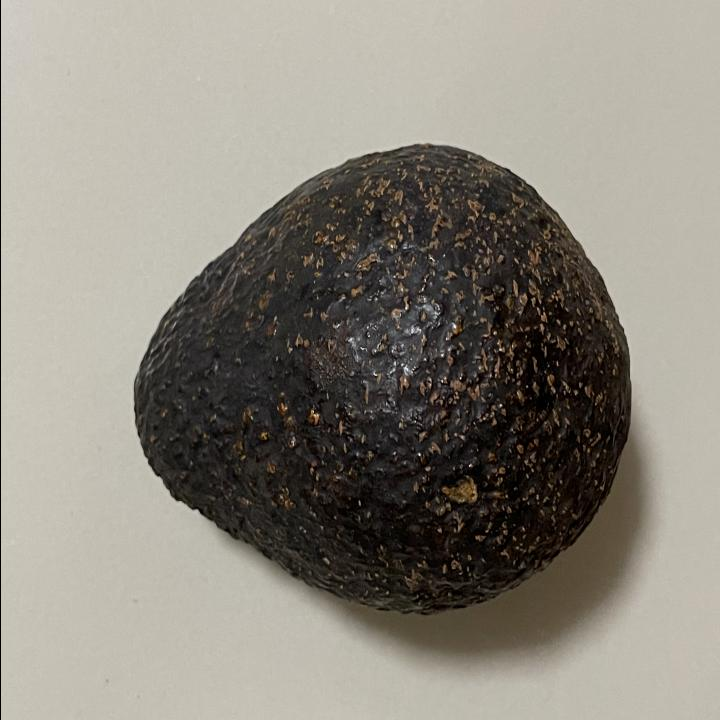Level3: (122, 125, 640, 627)
